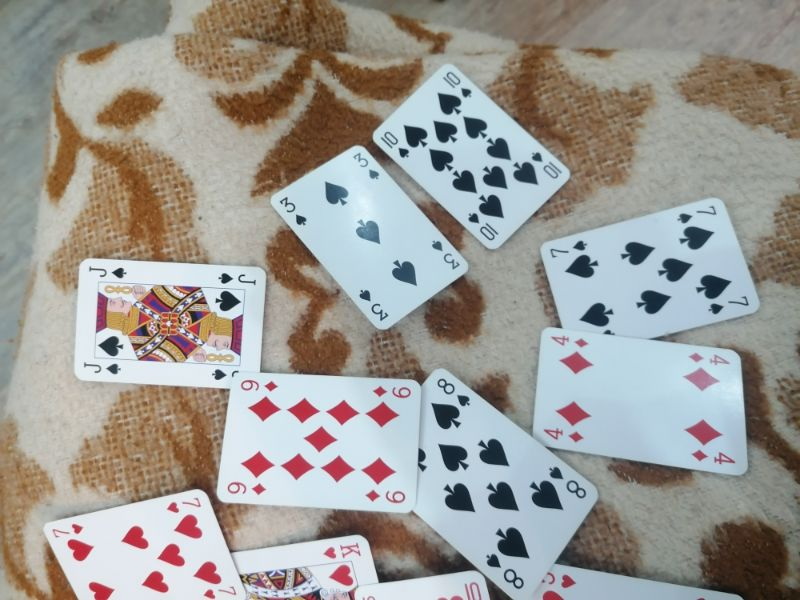3s: (356, 287, 391, 324), (428, 239, 463, 271), (350, 150, 381, 184), (275, 196, 309, 227)
4d: (683, 347, 731, 369), (688, 448, 737, 469), (541, 424, 587, 445), (549, 332, 592, 350)
7h: (165, 494, 204, 517), (51, 521, 87, 540), (201, 584, 240, 600)
7s: (706, 292, 751, 318), (675, 203, 720, 227), (548, 237, 591, 261)
8s: (483, 550, 528, 591), (546, 462, 588, 501), (435, 376, 473, 410)
9d: (238, 377, 281, 397), (225, 479, 269, 498), (363, 487, 407, 506), (370, 384, 416, 401)
Js: (215, 269, 259, 288), (83, 263, 129, 280), (80, 361, 124, 376)
Kh: (322, 540, 364, 562)
Ts: (530, 148, 566, 181), (464, 211, 500, 243), (439, 69, 475, 100), (379, 128, 412, 160)
